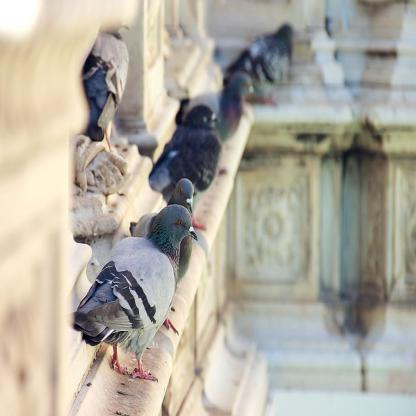Flying Rat: (76, 212, 191, 378), (142, 103, 223, 239)
